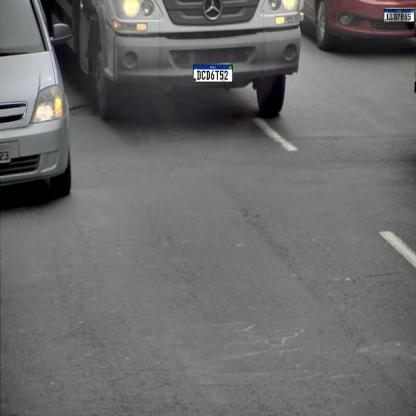PlacaM: (193, 64, 233, 82), (384, 9, 414, 22)
